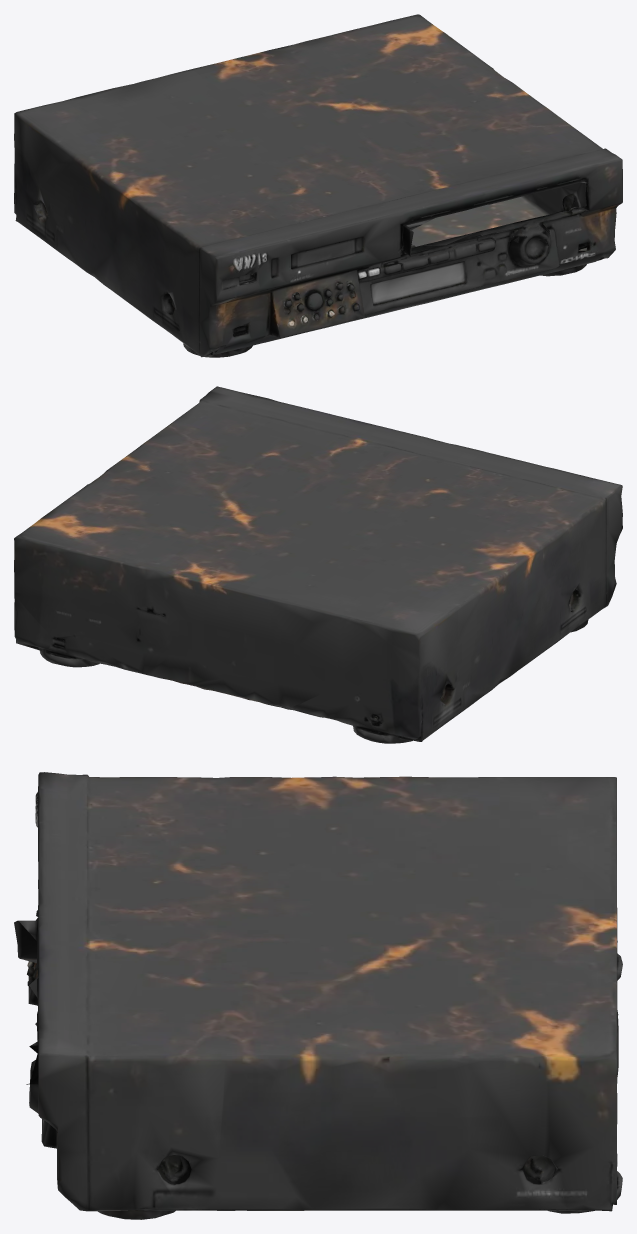
The model's file is vhs-player.glb.
3 views of the same model, one above another, from view 1: azimuth 30°, elevation 25°; view 2: azimuth 150°, elevation 25°; view 3: azimuth 270°, elevation 25° (orthographic). The views are drawn at different scales.
Visible parts, largest first — view 1: VHSPlayer; view 2: VHSPlayer; view 3: VHSPlayer.
Part boxes in pixels (x1,y1,x2,y2): VHSPlayer: (14,14,622,357); VHSPlayer: (14,386,622,743); VHSPlayer: (14,772,622,1219).
Bounding box in the file's own units: 1.91 × 0.5368 × 1.74.
1 material, 1 textured.
